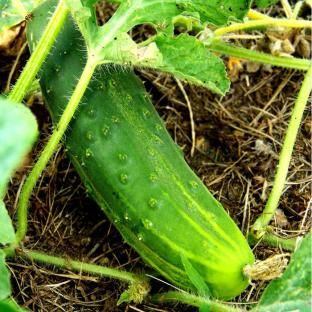Cucumber: (65, 67, 254, 299)
